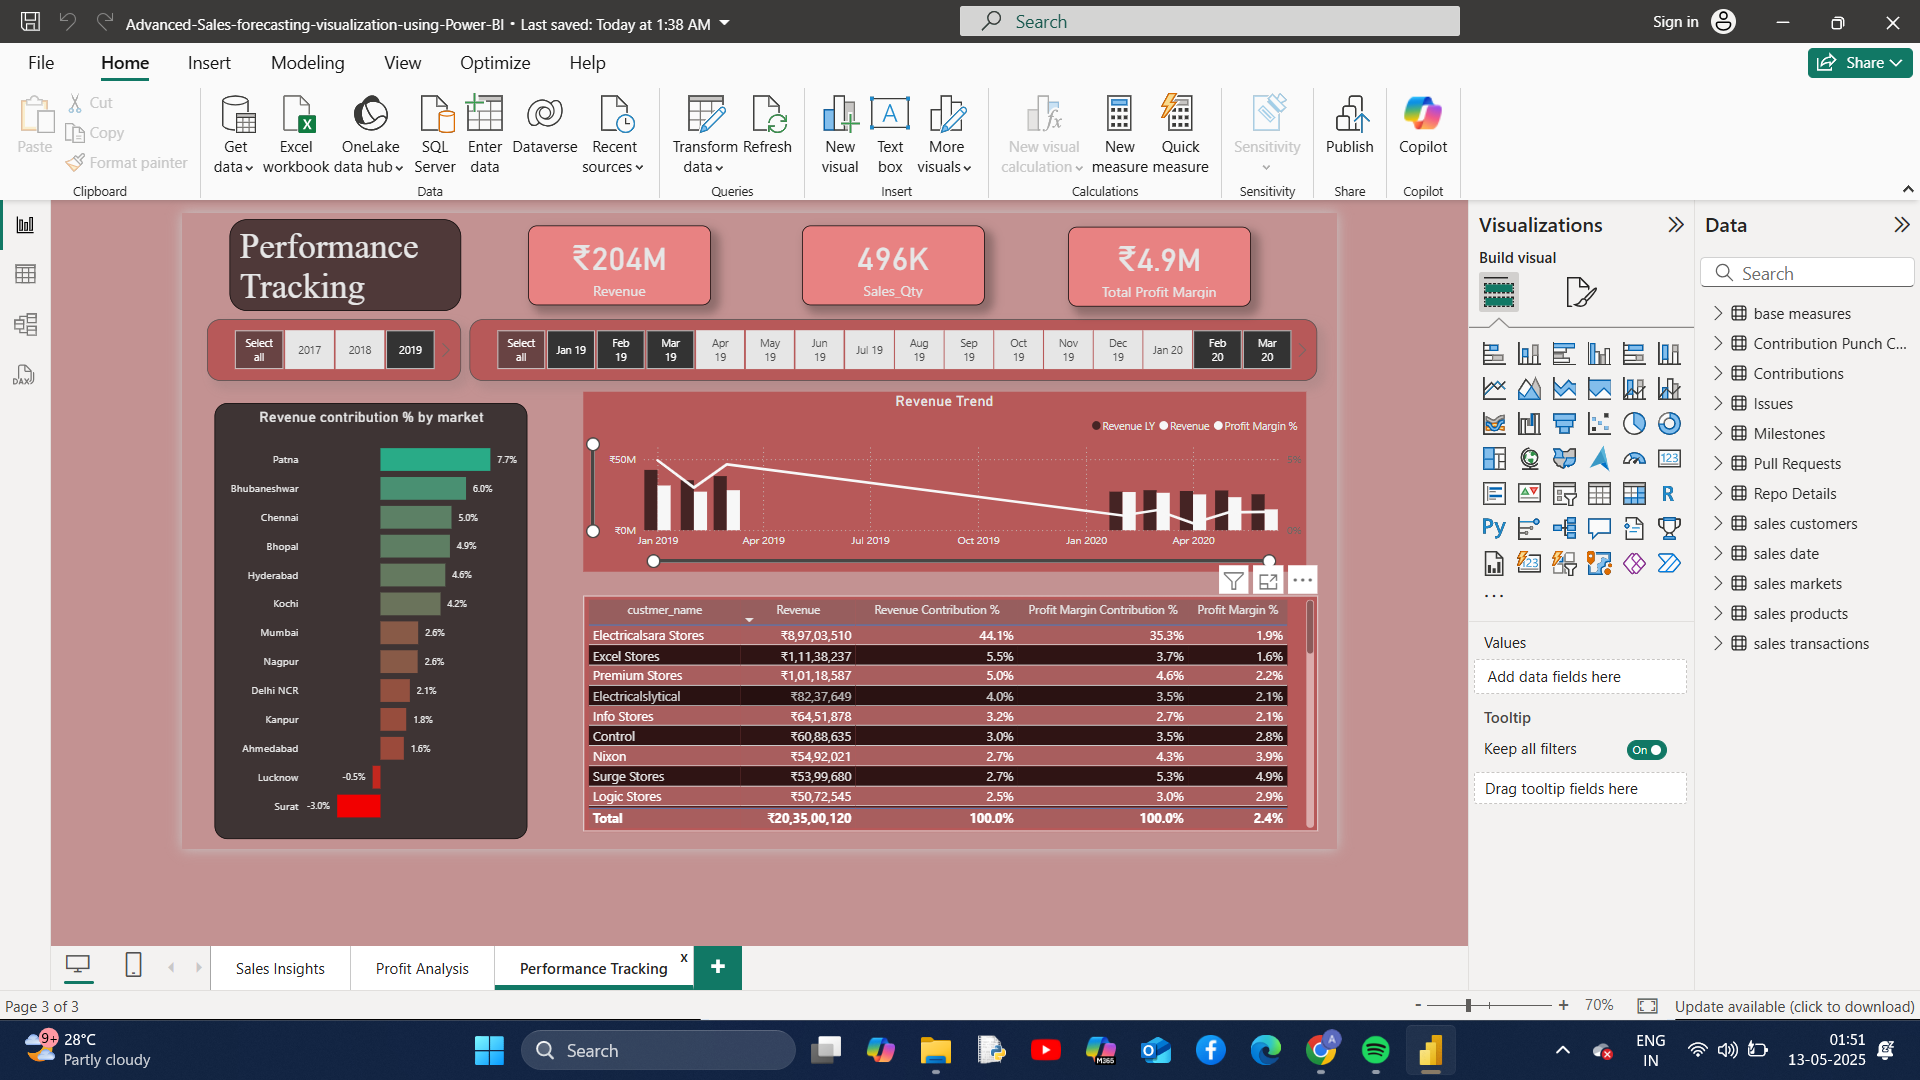

What the dashboard file says about the page in this screenshot:
{"tool":"powerbi","page":{"name":"Performance Tracking","canvas":[1319,727],"ordinal":2},"visuals":[{"type":"card","fields":{"Values":["base measures.revenue"]},"box":[395,13.8,208.8,91.2],"z":4000},{"type":"card","fields":{"Values":["base measures.sales_qty"]},"box":[708.8,13.8,208.8,91.2],"z":5000},{"type":"slicer","fields":{"Values":["sales date.year"]},"box":[28.8,121.2,290,70],"z":6000},{"type":"slicer","fields":{"Values":["sales date.cy_date"]},"box":[328.8,121.2,968.8,70],"z":7000},{"type":"textbox","title":"Performance Tracking","box":[53.8,7.5,265,105],"z":8000},{"type":"card","fields":{"Values":["base measures.Total Profit Margin"]},"box":[1012.5,16.2,208.8,91.2],"z":9000},{"type":"barChart","title":"Revenue contribution % by market","fields":{"Category":["sales markets.zone","sales markets.markets_name","sales customers.custmer_name","sales products.product_code"],"Y":["base measures.Profit Margin %"]},"box":[37.5,217.5,357.5,498.8],"z":11000},{"type":"lineClusteredColumnComboChart","title":"Revenue Trend","fields":{"Category":["sales date.cy_date"],"Y":["base measures.Revenue LY","base measures.revenue"],"Y2":["base measures.Profit Margin %"]},"box":[457.9,204.6,825.6,204.6],"z":12000},{"type":"tableEx","fields":{"Values":["sales customers.custmer_name","base measures.revenue","base measures.Revenue Contribution %","base measures.Profit Margin Contribution %","base measures.Profit Margin %"]},"box":[457.9,437.2,840.3,270.3],"z":13000}]}

Visuals, with their boxes on the page's 1319x727 design canvas (x1, y1, x2, y2). These are canvas units, not pixel positions in the 1920x1080 screenshot, which may show the page scaled, cropped or inside an application window:
card - base measures.revenue: 395 14 604 105
card - base measures.sales_qty: 709 14 918 105
slicer - sales date.year: 29 121 319 191
slicer - sales date.cy_date: 329 121 1298 191
"Performance Tracking" textbox: 54 8 319 112
card - base measures.Total Profit Margin: 1012 16 1221 107
"Revenue contribution % by market" barChart: 38 218 395 716
"Revenue Trend" lineClusteredColumnComboChart: 458 205 1284 409
tableEx - sales customers.custmer_name x base measures.revenue: 458 437 1298 708
